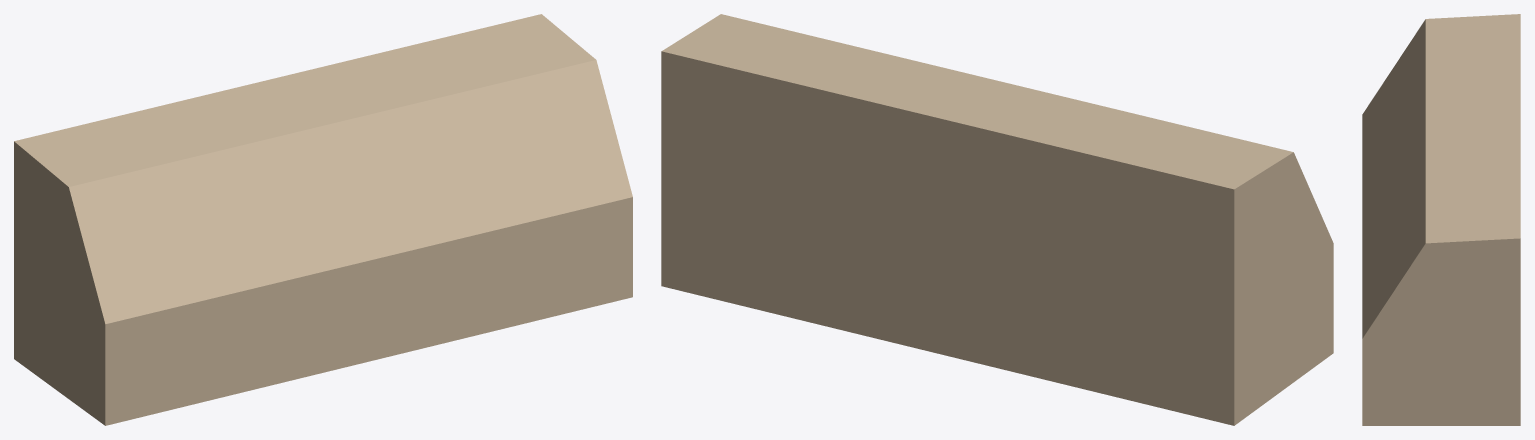
Rendered from SM_Ground_Curb_04.fbx.
3 renders of one model, left to right at view 1: azimuth 30°, elevation 25°; view 2: azimuth 150°, elevation 25°; view 3: azimuth 270°, elevation 25°, orthographic. The views are drawn at different scales.
Visible parts, largest first — view 1: SM_Ground_Curb_04; view 2: SM_Ground_Curb_04; view 3: SM_Ground_Curb_04.
Part boxes in pixels (box(x1,y1,x2,y2)): SM_Ground_Curb_04: box(14, 14, 632, 425); SM_Ground_Curb_04: box(661, 14, 1333, 425); SM_Ground_Curb_04: box(1362, 14, 1520, 425).
Bounding box in the file's own units: 0.5 × 0.1973 × 0.15.
Materials: 1 (1 with a texture image).
